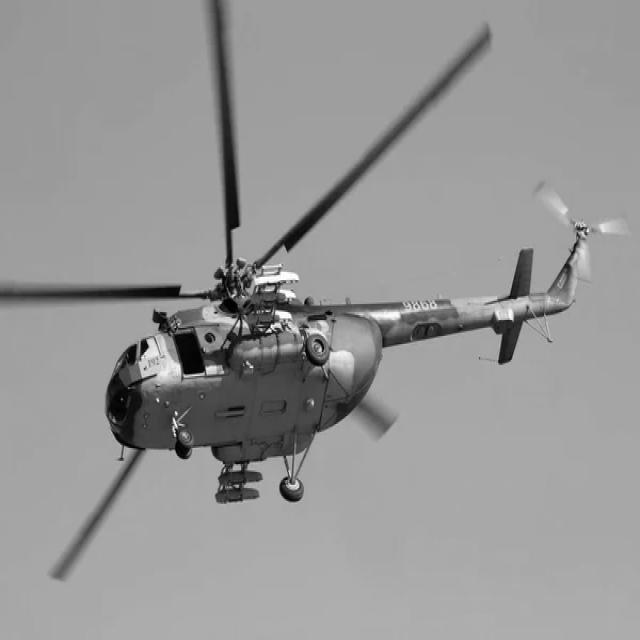Helicopter: (0, 5, 591, 504)
